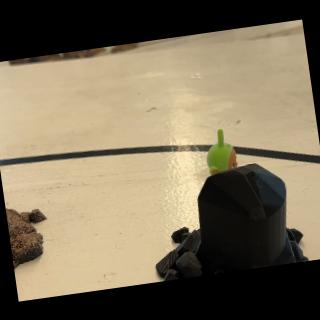teletubby: (206, 129, 237, 175)
